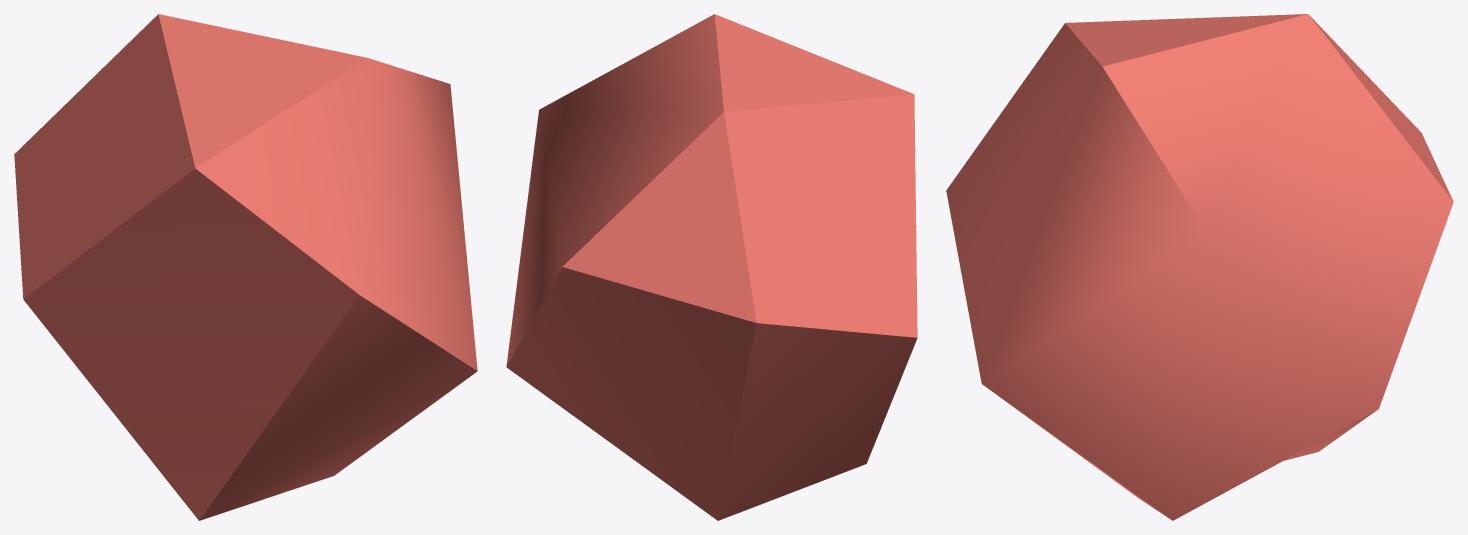
The model's file is Rock_02.glb.
3 views of the same model, side by side, from view 1: azimuth 30°, elevation 25°; view 2: azimuth 150°, elevation 25°; view 3: azimuth 270°, elevation 25° (orthographic). The views are drawn at different scales.
Parts seen in each view (by area): view 1: Rock_02; view 2: Rock_02; view 3: Rock_02.
Boxes of the visible parts, left/top/right/bottom form: Rock_02: left=14, top=14, right=477, bottom=520; Rock_02: left=506, top=14, right=917, bottom=520; Rock_02: left=946, top=14, right=1453, bottom=520.
Bounding box in the file's own units: 64.67 × 64.09 × 67.04.
